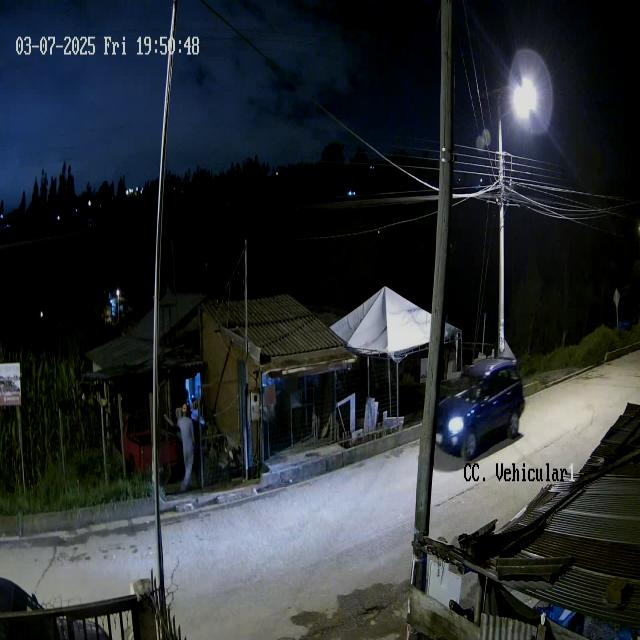SUV: (433, 353, 524, 456)
